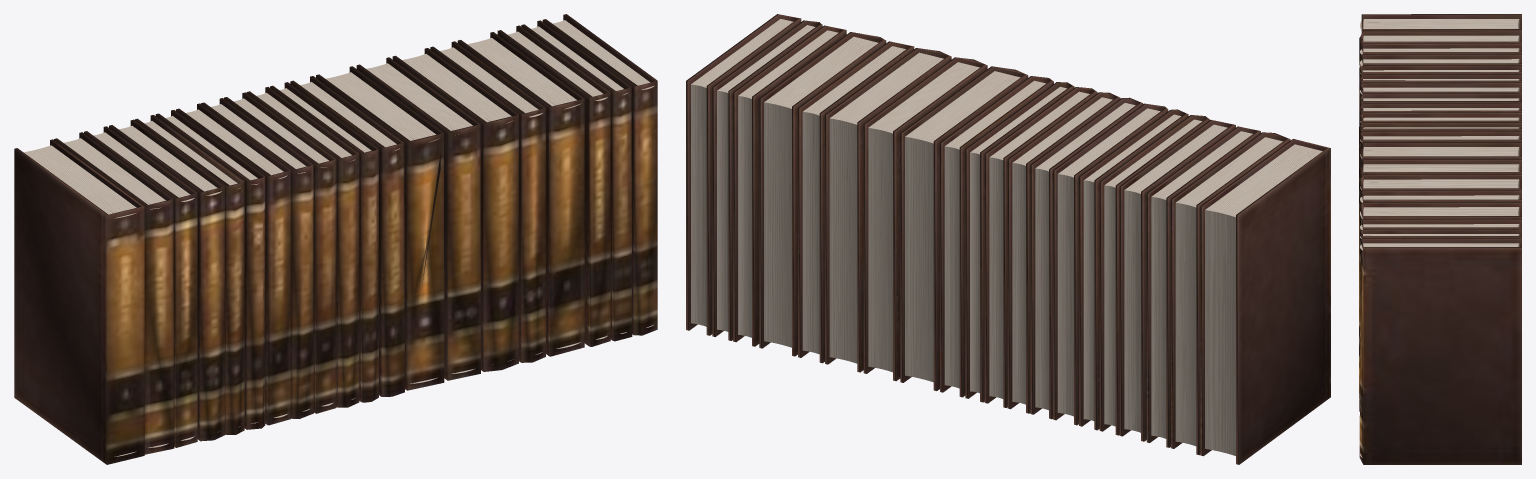
Rendered from book_encyclopedia_set_01.glb.
The picture shows the model from 3 angles, left to right: view 1: azimuth 30°, elevation 25°; view 2: azimuth 150°, elevation 25°; view 3: azimuth 270°, elevation 25°; orthographic projection. The views are drawn at different scales.
Visible parts, largest first — view 1: book_encyclopedia_set_01_book01, book_encyclopedia_set_01_book13, book_encyclopedia_set_01_book17, book_encyclopedia_set_01_book15, book_encyclopedia_set_01_book14, book_encyclopedia_set_01_book02, book_encyclopedia_set_01_book04, book_encyclopedia_set_01_book16, book_encyclopedia_set_01_book18, book_encyclopedia_set_01_book07, book_encyclopedia_set_01_book20, book_encyclopedia_set_01_book12 (+8 smaller); view 2: book_encyclopedia_set_01_book01, book_encyclopedia_set_01_book13, book_encyclopedia_set_01_book15, book_encyclopedia_set_01_book17, book_encyclopedia_set_01_book14, book_encyclopedia_set_01_book02, book_encyclopedia_set_01_book04, book_encyclopedia_set_01_book16, book_encyclopedia_set_01_book20, book_encyclopedia_set_01_book18, book_encyclopedia_set_01_book07, book_encyclopedia_set_01_book12 (+8 smaller); view 3: book_encyclopedia_set_01_book20, book_encyclopedia_set_01_book15, book_encyclopedia_set_01_book13, book_encyclopedia_set_01_book17, book_encyclopedia_set_01_book01, book_encyclopedia_set_01_book14, book_encyclopedia_set_01_book16, book_encyclopedia_set_01_book02, book_encyclopedia_set_01_book07, book_encyclopedia_set_01_book03, book_encyclopedia_set_01_book12, book_encyclopedia_set_01_book10 (+8 smaller).
Part boxes in pixels (x1=…): book_encyclopedia_set_01_book01: x1=14, y1=139, x2=144, y2=464; book_encyclopedia_set_01_book13: x1=316, y1=66, x2=444, y2=390; book_encyclopedia_set_01_book17: x1=457, y1=32, x2=584, y2=356; book_encyclopedia_set_01_book15: x1=392, y1=48, x2=518, y2=371; book_encyclopedia_set_01_book14: x1=356, y1=57, x2=480, y2=380; book_encyclopedia_set_01_book02: x1=54, y1=132, x2=174, y2=454; book_encyclopedia_set_01_book04: x1=109, y1=119, x2=224, y2=441; book_encyclopedia_set_01_book16: x1=430, y1=41, x2=545, y2=362; book_encyclopedia_set_01_book18: x1=497, y1=25, x2=610, y2=346; book_encyclopedia_set_01_book07: x1=176, y1=103, x2=291, y2=425; book_encyclopedia_set_01_book20: x1=542, y1=14, x2=657, y2=335; book_encyclopedia_set_01_book12: x1=290, y1=76, x2=404, y2=396; book_encyclopedia_set_01_book01: x1=1200, y1=139, x2=1330, y2=464; book_encyclopedia_set_01_book13: x1=900, y1=66, x2=1028, y2=390; book_encyclopedia_set_01_book15: x1=825, y1=48, x2=951, y2=372; book_encyclopedia_set_01_book17: x1=759, y1=32, x2=886, y2=356; book_encyclopedia_set_01_book14: x1=863, y1=57, x2=987, y2=381; book_encyclopedia_set_01_book02: x1=1171, y1=132, x2=1290, y2=455; book_encyclopedia_set_01_book04: x1=1119, y1=120, x2=1235, y2=441; book_encyclopedia_set_01_book16: x1=798, y1=41, x2=914, y2=363; book_encyclopedia_set_01_book20: x1=686, y1=14, x2=801, y2=335; book_encyclopedia_set_01_book18: x1=733, y1=25, x2=846, y2=346; book_encyclopedia_set_01_book07: x1=1053, y1=103, x2=1168, y2=425; book_encyclopedia_set_01_book12: x1=940, y1=76, x2=1053, y2=397; book_encyclopedia_set_01_book20: x1=1359, y1=238, x2=1521, y2=464; book_encyclopedia_set_01_book15: x1=1359, y1=174, x2=1521, y2=397; book_encyclopedia_set_01_book13: x1=1359, y1=142, x2=1521, y2=165; book_encyclopedia_set_01_book17: x1=1359, y1=202, x2=1521, y2=230; book_encyclopedia_set_01_book01: x1=1360, y1=14, x2=1521, y2=33; book_encyclopedia_set_01_book14: x1=1359, y1=159, x2=1521, y2=179; book_encyclopedia_set_01_book16: x1=1359, y1=190, x2=1521, y2=411; book_encyclopedia_set_01_book02: x1=1359, y1=31, x2=1521, y2=67; book_encyclopedia_set_01_book07: x1=1359, y1=82, x2=1521, y2=98; book_encyclopedia_set_01_book03: x1=1360, y1=43, x2=1521, y2=54; book_encyclopedia_set_01_book12: x1=1359, y1=131, x2=1521, y2=147; book_encyclopedia_set_01_book10: x1=1359, y1=112, x2=1521, y2=125.
Bounding box in the file's own units: 0.5513 × 0.2374 × 0.1619.
Materials: 2 (2 with a texture image).
